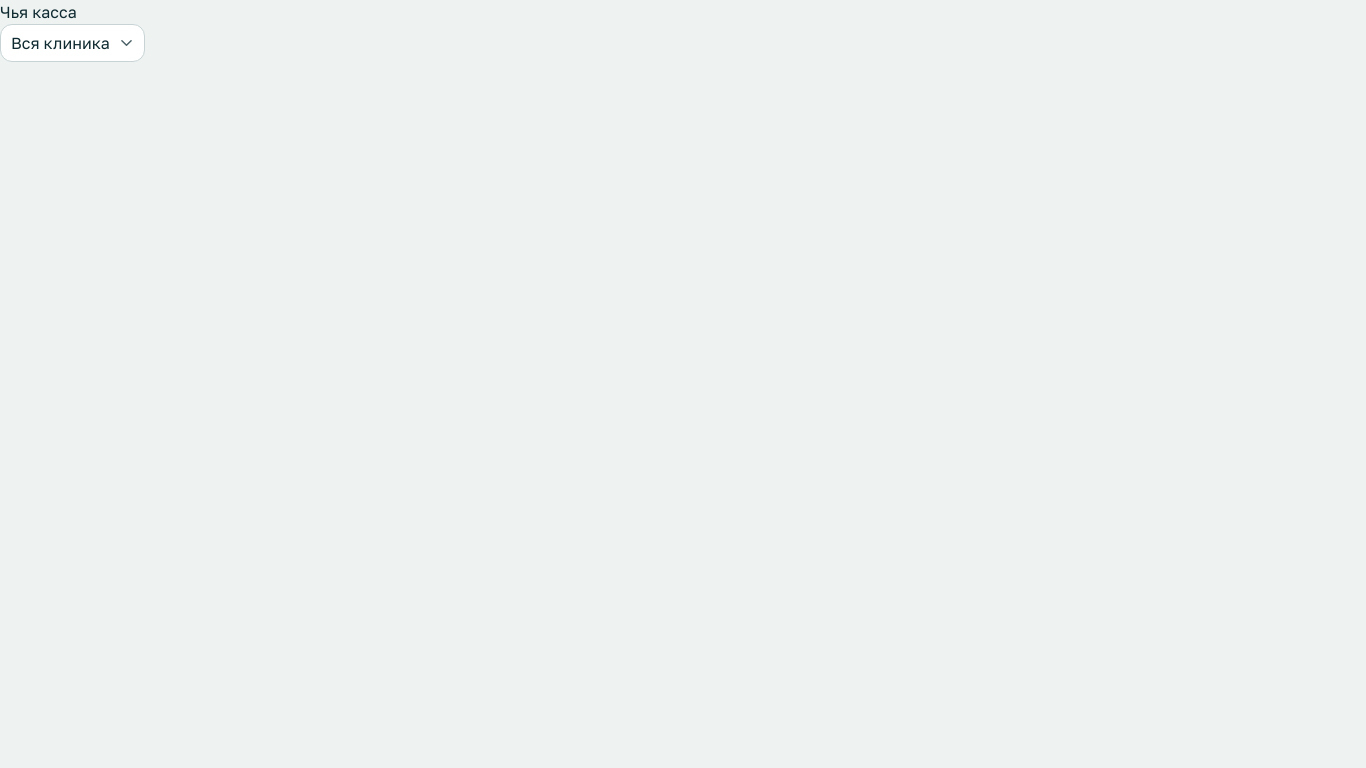
Scenario: телефон — лист снизу с заголовком из подписи поля; нажали на фон — закрылся
Click the dropdown.
click(72, 43)  # box [0,24,145,62]
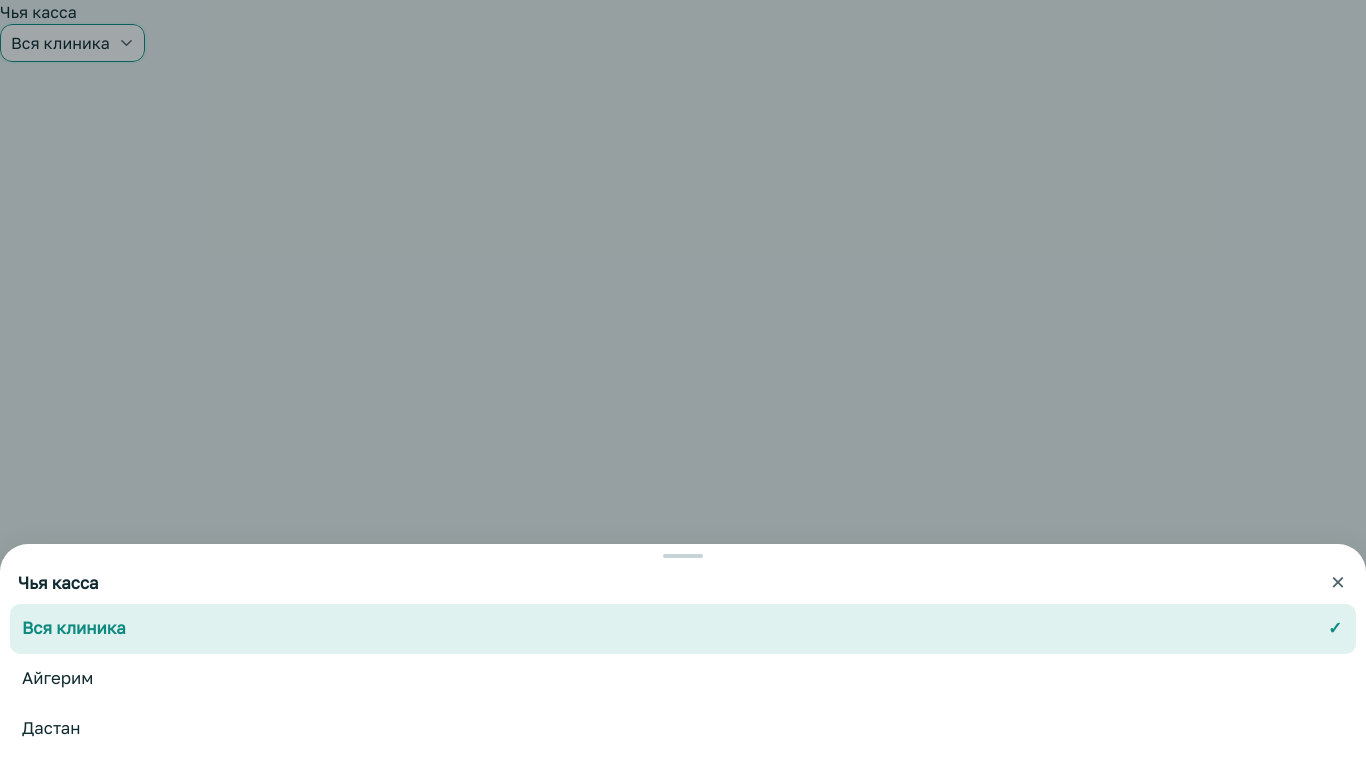
Now the text "Чья касса" is shown, box [18,573,99,593]
Click the element with class "ui-select-backdrop".
click(683, 384)  # box [0,0,1365,767]
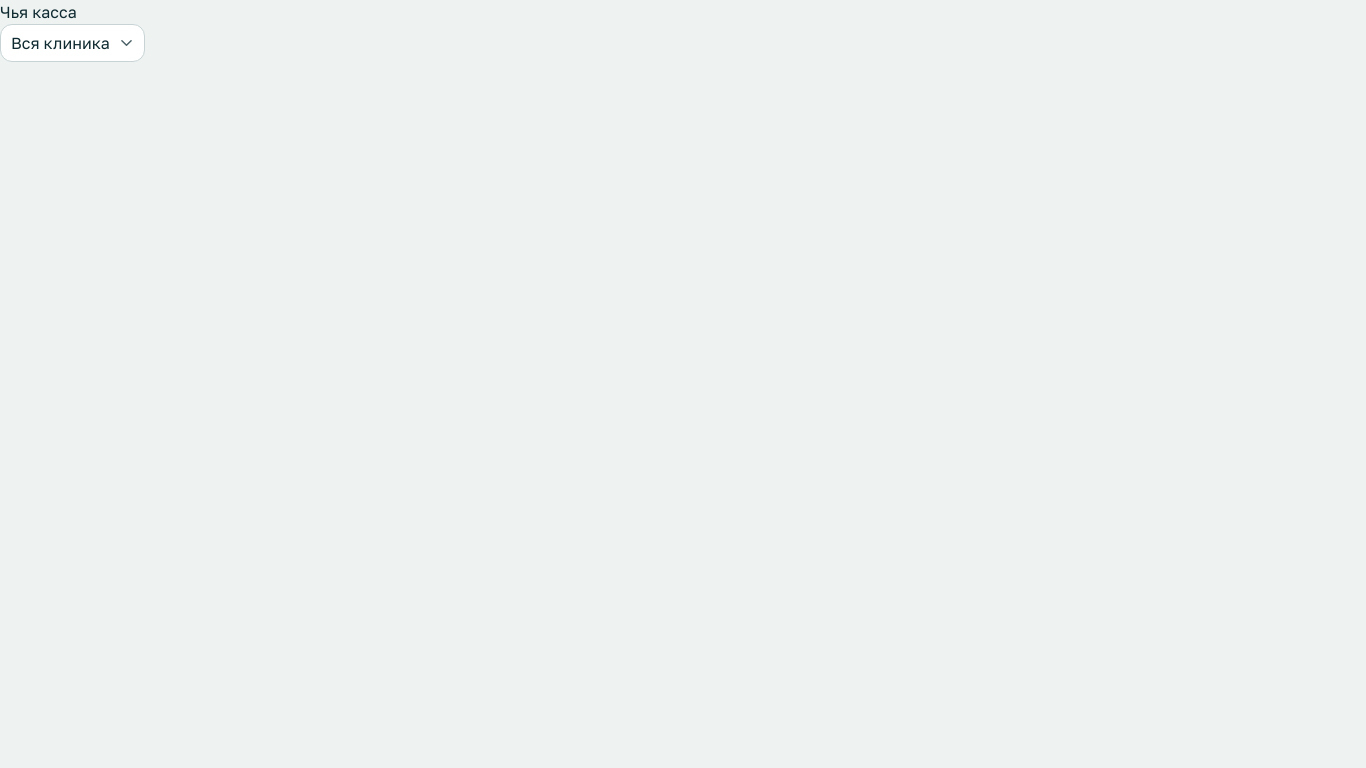
Now the list is gone
// «✕» в шапке листа — тоже закрывает (на iPhone нажатие на фон не всегда срабатывало)
Click the dropdown.
click(72, 43)  # box [0,24,145,62]
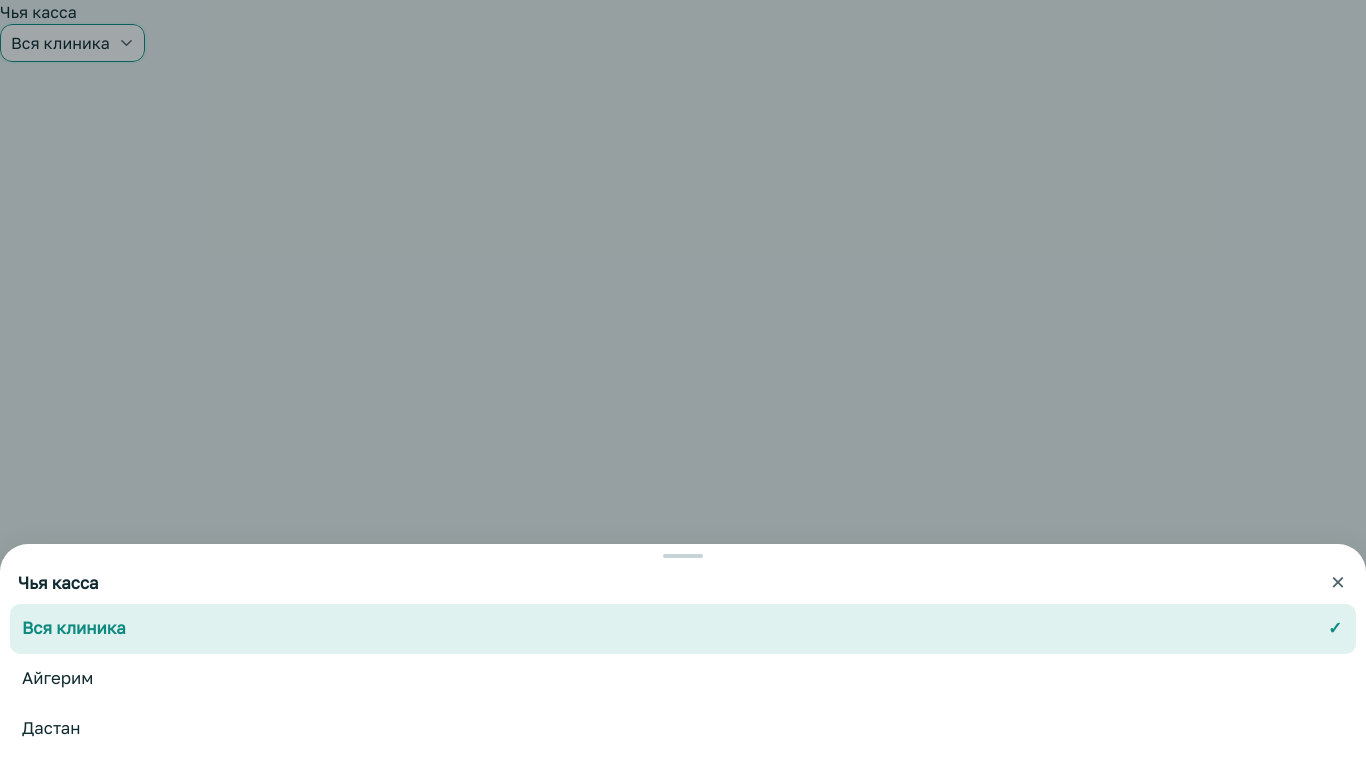
Click the button named "Закрыть".
click(1338, 582)  # box [1316,560,1360,604]
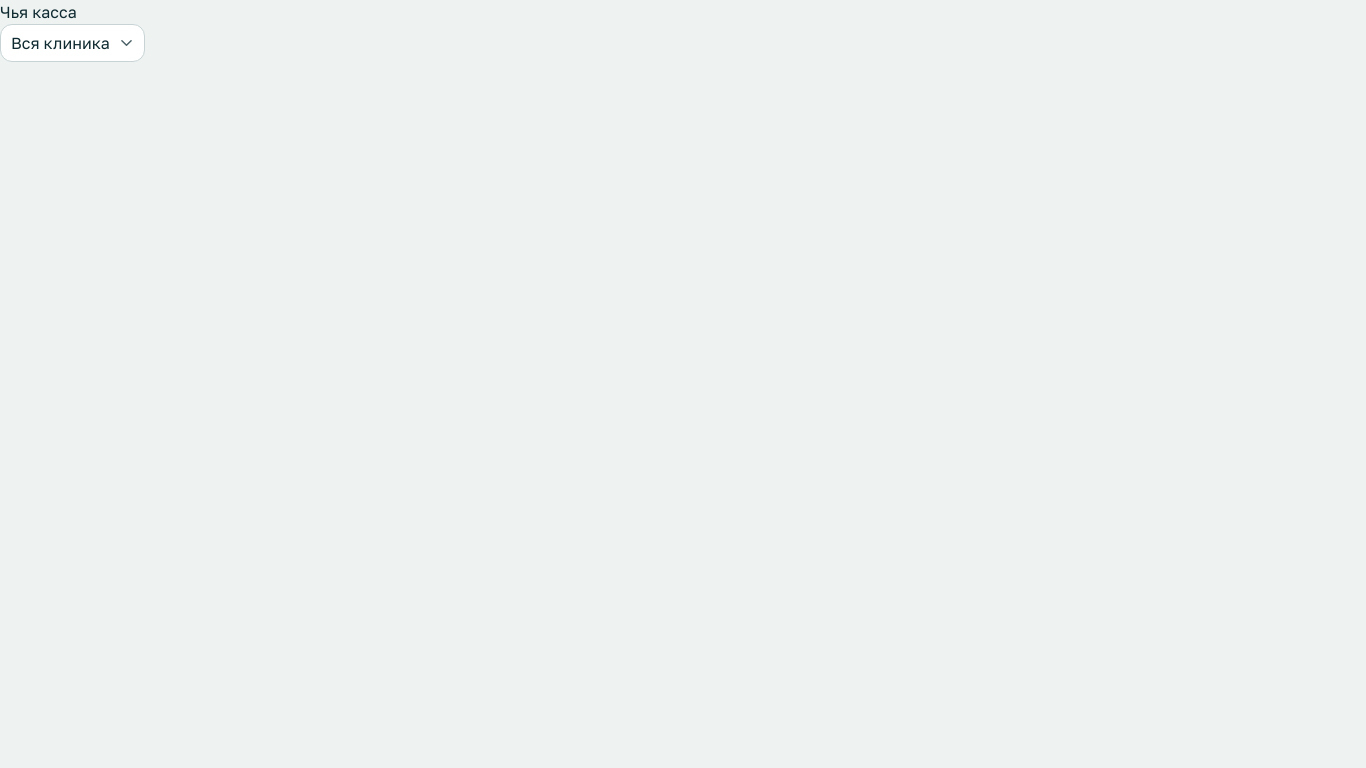
Now the list is gone
